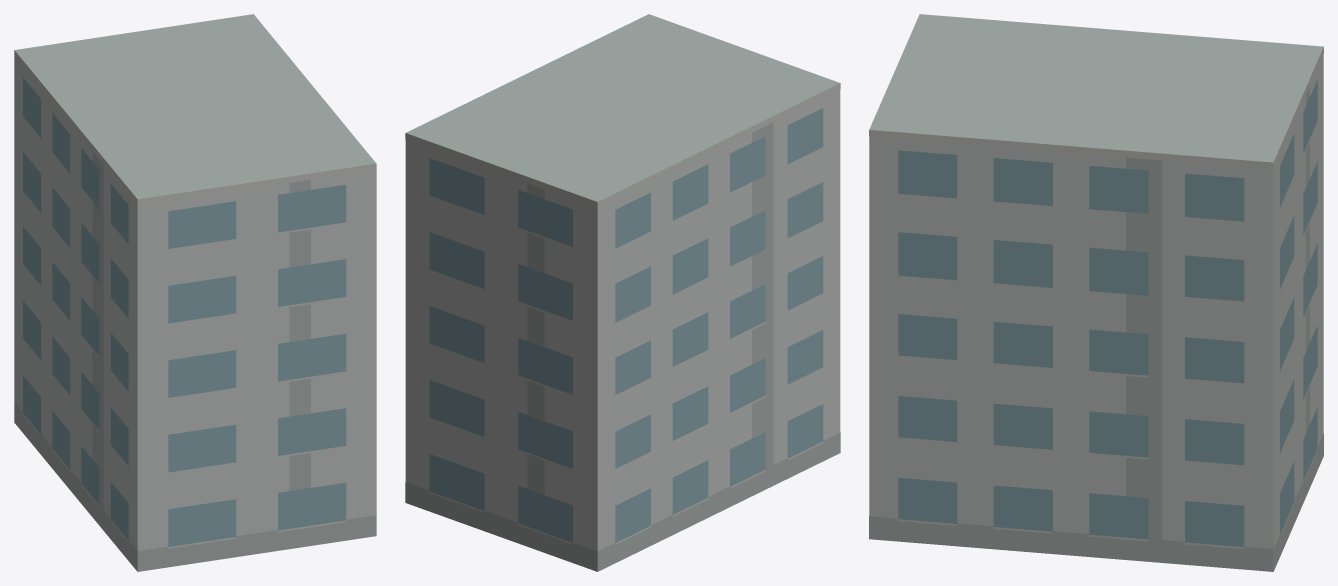
Rendered from survey-upis-32932366.glb.
3 views of the same model, side by side, from view 1: azimuth 30°, elevation 25°; view 2: azimuth 150°, elevation 25°; view 3: azimuth 270°, elevation 25° (orthographic). The views are drawn at different scales.
Parts seen in each view (by area): view 1: survey-upis-32932366.tmp; view 2: survey-upis-32932366.tmp; view 3: survey-upis-32932366.tmp.
Boxes of the visible parts, <box> form: survey-upis-32932366.tmp: <box>14,14,376,571</box>; survey-upis-32932366.tmp: <box>405,14,840,571</box>; survey-upis-32932366.tmp: <box>869,14,1323,571</box>.
Size of the model in its own units: 11.14 by 14.3 by 14.41.
